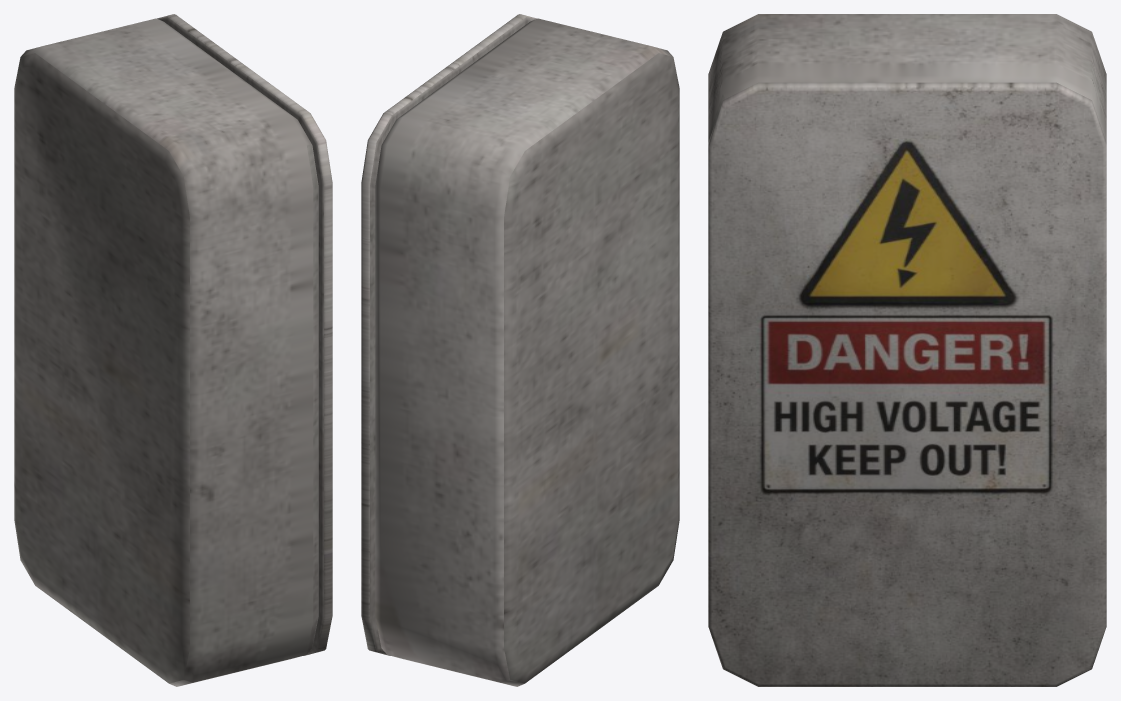
The model's file is fuse_box.obj.
3 renders of one model, left to right at view 1: azimuth 30°, elevation 25°; view 2: azimuth 150°, elevation 25°; view 3: azimuth 270°, elevation 25°, orthographic. The views are drawn at different scales.
Visible parts, largest first — view 1: fuse_box, fuse_box_door; view 2: fuse_box, fuse_box_door; view 3: fuse_box_door, fuse_box.
Boxes of the visible parts, x1,y1,x2,y2 form: fuse_box: (14, 18, 318, 686); fuse_box_door: (157, 14, 332, 655); fuse_box: (375, 18, 679, 686); fuse_box_door: (361, 14, 536, 655); fuse_box_door: (708, 82, 1106, 686); fuse_box: (708, 14, 1106, 142).
Bounding box in the file's own units: 0.14 × 0.5 × 0.3.
1 material, 1 textured.
